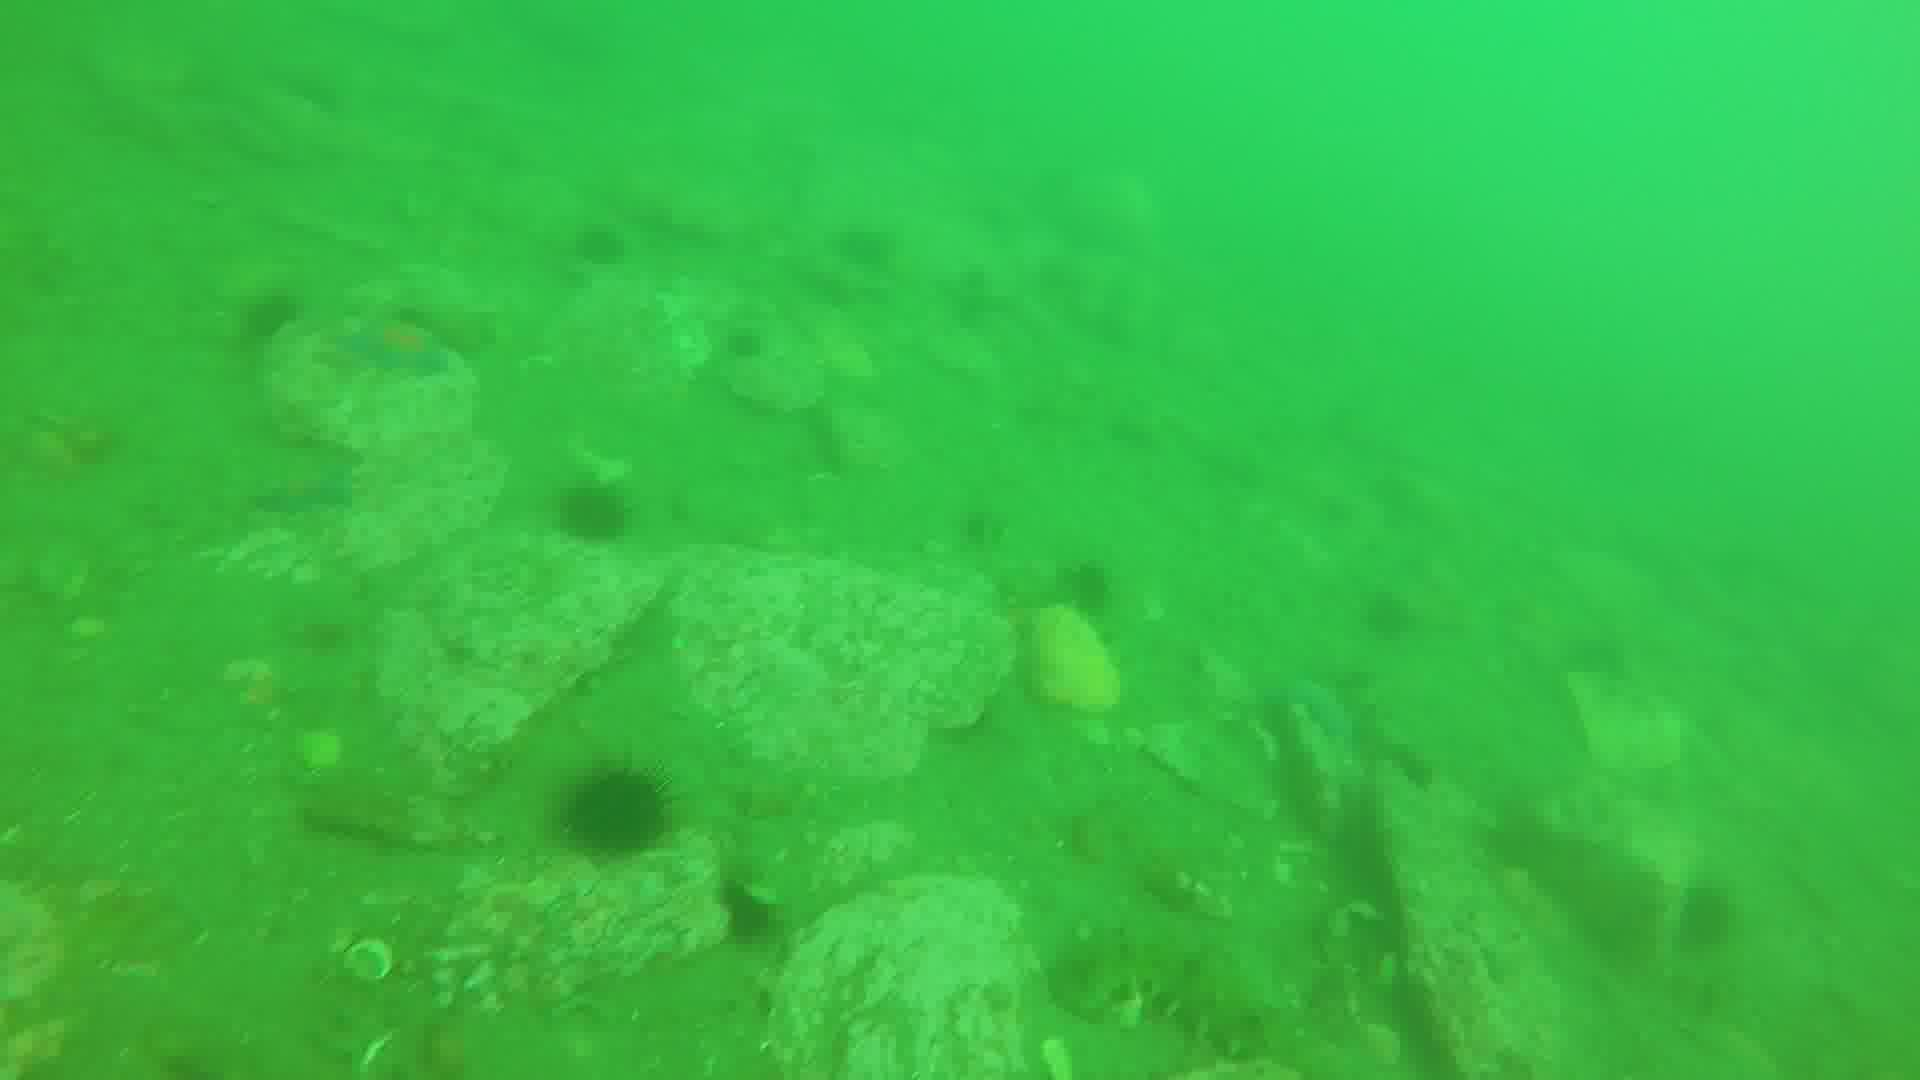echinus: (564, 771, 663, 857), (721, 880, 789, 949), (1060, 560, 1124, 632), (1675, 881, 1741, 948), (562, 487, 630, 545), (579, 222, 630, 262), (731, 320, 770, 365)
holothurian: (1065, 936, 1269, 1056)
starfish: (255, 450, 361, 517), (357, 313, 447, 386)
